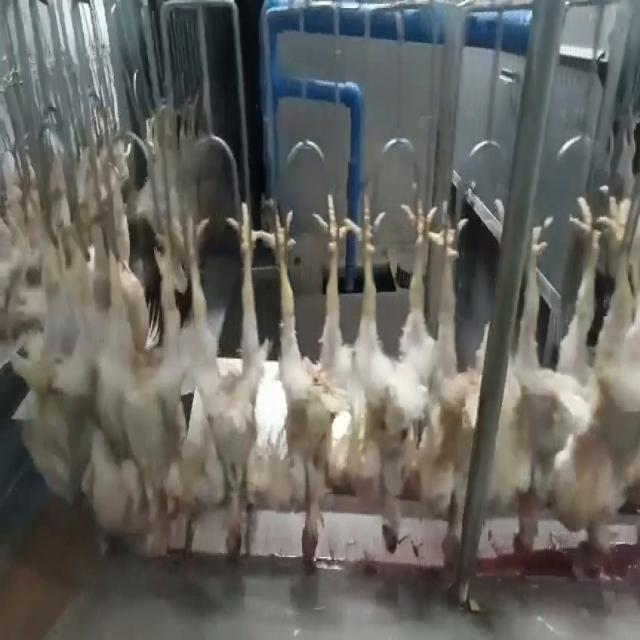chicken: (338, 186, 438, 557), (264, 195, 362, 567), (171, 197, 259, 562), (411, 218, 494, 584), (566, 190, 640, 574), (494, 215, 567, 560), (107, 203, 169, 560)
